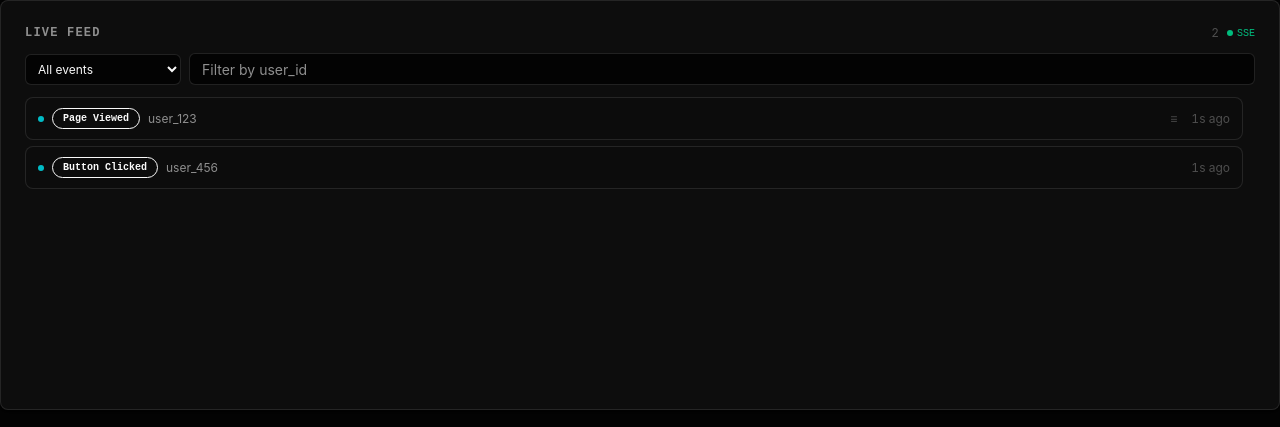
Test: EventFeed › shows empty state with filter message when filters are active and no events match
In the field named "Filter by user ID": (722, 69) [189,53,1255,85], type "nobody"
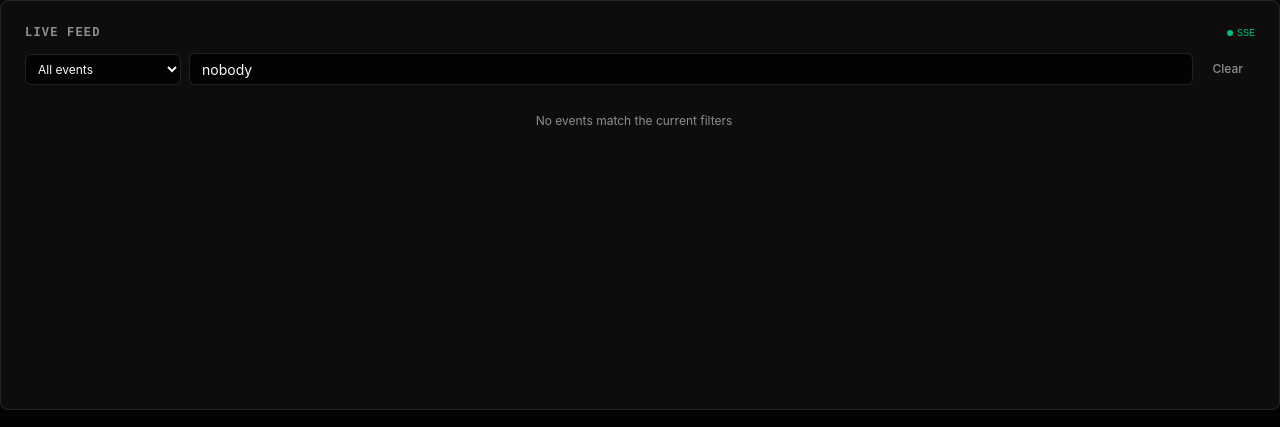
expect the text "No events match the current filters" is shown: met, box [536,113,732,128]
